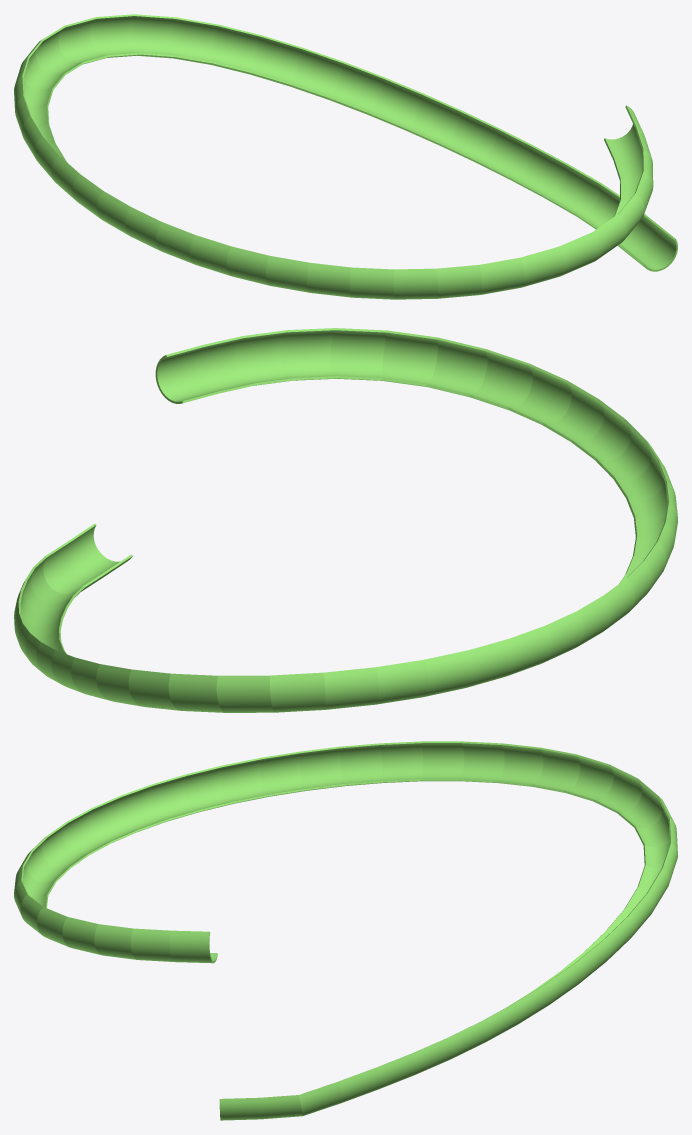
Rendered from trail_proto.fbx.
3 renders of one model, top to bottom at view 1: azimuth 30°, elevation 25°; view 2: azimuth 150°, elevation 25°; view 3: azimuth 270°, elevation 25°, orthographic. The views are drawn at different scales.
Parts seen in each view (by area): view 1: trail proto; view 2: trail proto; view 3: trail proto.
Part boxes in pixels (x1,y1,x2,y2): trail proto: (14,14,677,299); trail proto: (14,328,677,712); trail proto: (14,741,677,1120).
Size of the model in its own units: 2804 by 923 by 3282.
